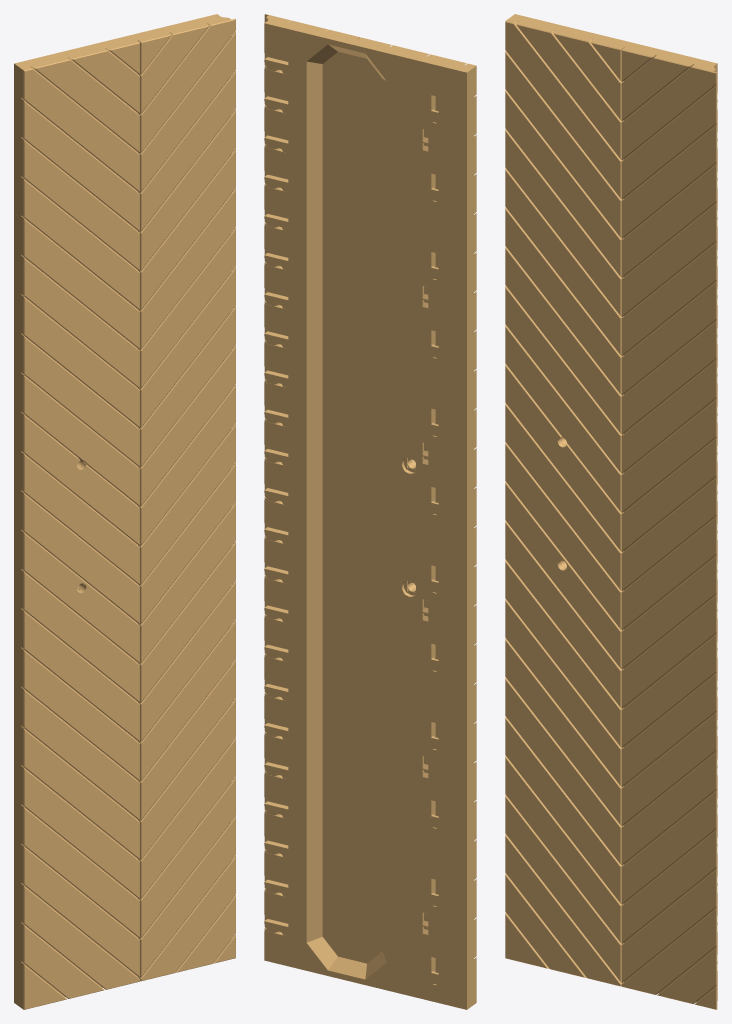
File: Door_Chevron_1W-6H_RH.lib.glb
3 views of the same model, side by side, from view 1: azimuth 30°, elevation 25°; view 2: azimuth 150°, elevation 25°; view 3: azimuth 330°, elevation 25° (orthographic).
Visible parts, largest first — view 1: Door_Chevron_1W-6H_RH; view 2: Door_Chevron_1W-6H_RH; view 3: Door_Chevron_1W-6H_RH.
Part boxes in pixels (x1,y1,x2,y2): Door_Chevron_1W-6H_RH: (14,14,235,1009); Door_Chevron_1W-6H_RH: (264,14,476,1009); Door_Chevron_1W-6H_RH: (505,14,717,1009).
Size of the model in its own units: 79.13 by 335 by 6.5.
